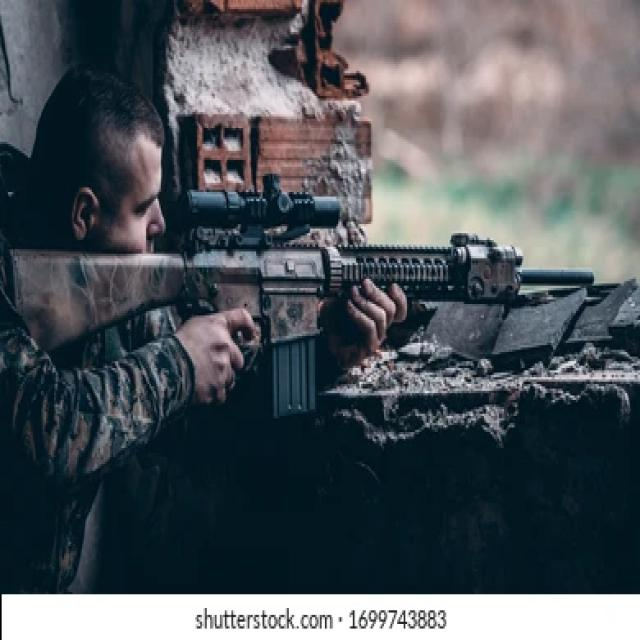soldier: (1, 74, 475, 593)
